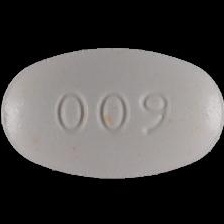54868-5849: (0, 0, 224, 224)
